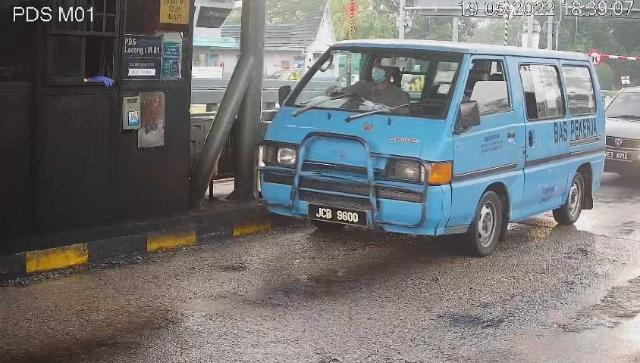License_Plate: (308, 204, 370, 230)
van: (255, 40, 608, 259)
